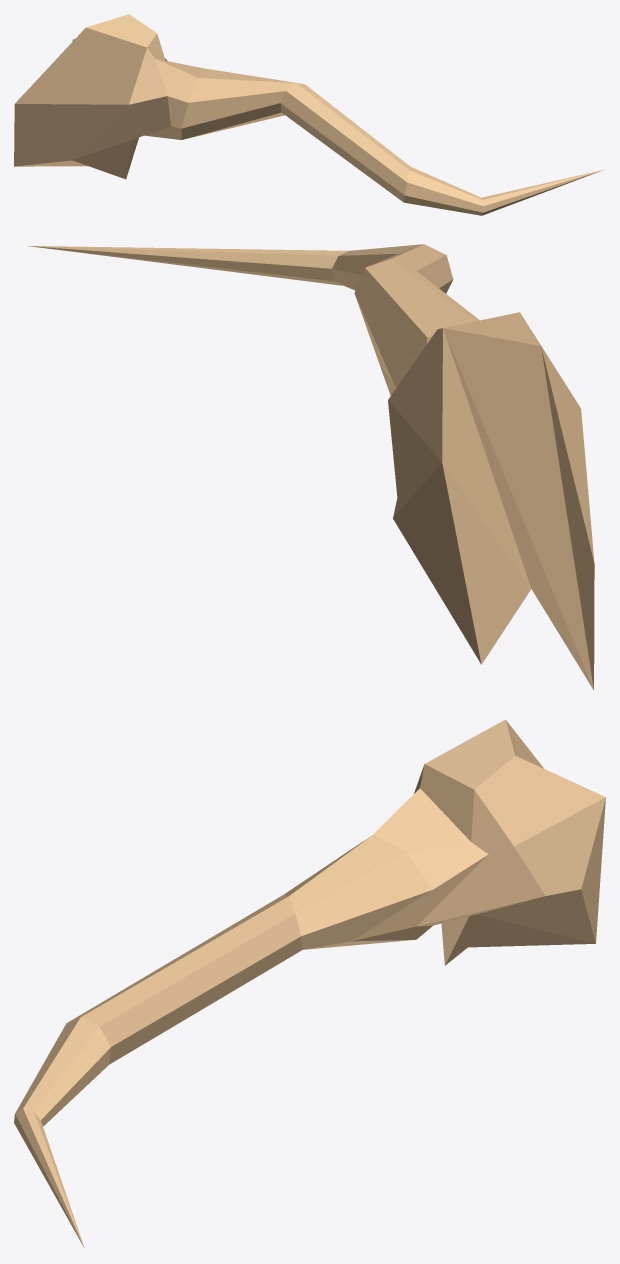
File: Branch 6.fbx
3 views of the same model, one above another, from view 1: azimuth 30°, elevation 25°; view 2: azimuth 150°, elevation 25°; view 3: azimuth 270°, elevation 25° (orthographic). The views are drawn at different scales.
Visible parts, largest first — view 1: Branch 6; view 2: Branch 6; view 3: Branch 6.
Part boxes in pixels (x1=…): Branch 6: x1=14, y1=14, x2=604, y2=215; Branch 6: x1=28, y1=244, x2=594, y2=690; Branch 6: x1=14, y1=719, x2=605, y2=1248.
Bounding box in the file's own units: 33.71 × 10.56 × 24.59.
